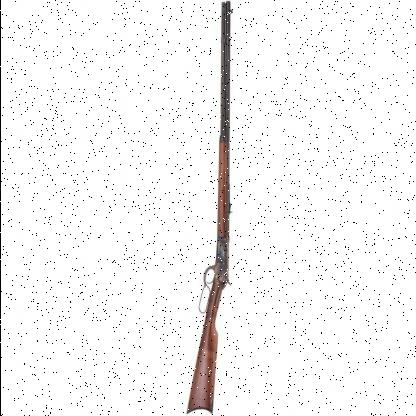rifle: (165, 0, 254, 415)
